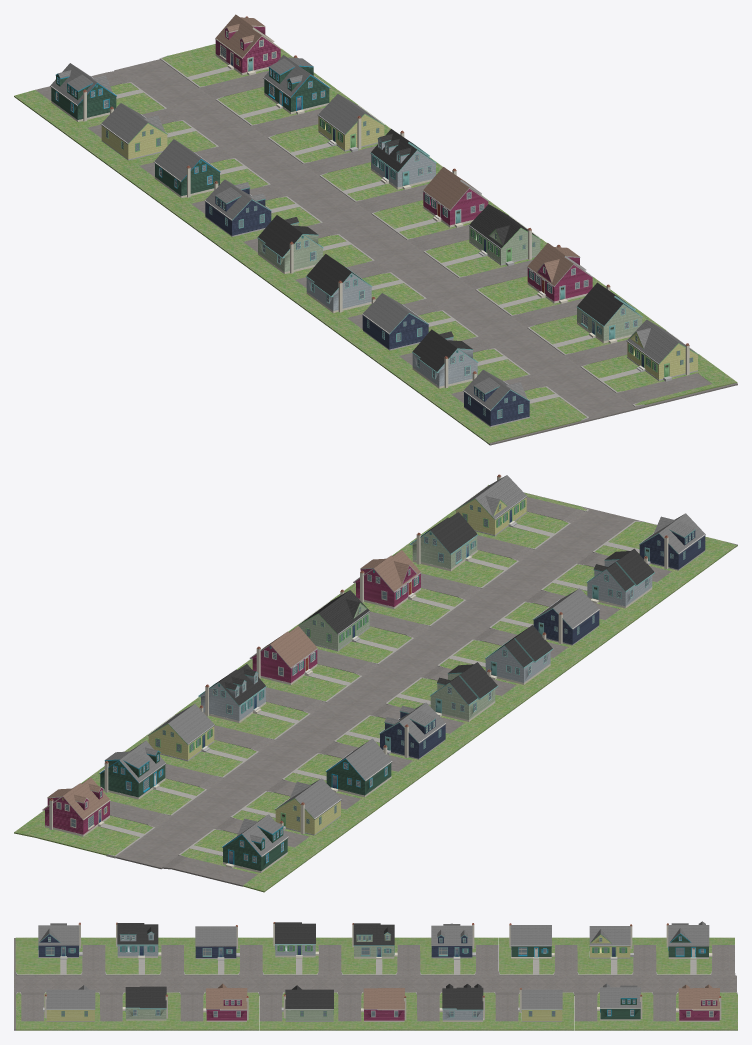
The picture shows the model from 3 angles, top to bottom: view 1: azimuth 30°, elevation 25°; view 2: azimuth 150°, elevation 25°; view 3: azimuth 270°, elevation 25°; orthographic projection. The views are drawn at different scales.
Visible parts, largest first — view 1: Street_1, Houses01_0; view 2: Street_1, Houses01_0; view 3: Street_1, Houses01_0.
Part boxes in pixels (bbox=[...]): Street_1: bbox=[14, 44, 737, 445]; Houses01_0: bbox=[50, 14, 698, 427]; Street_1: bbox=[14, 485, 737, 892]; Houses01_0: bbox=[42, 474, 705, 872]; Street_1: bbox=[14, 937, 737, 1030]; Houses01_0: bbox=[38, 921, 721, 1021].
Size of the model in its own units: 43.26 by 6.92 by 144.
13 materials, 13 textured.
